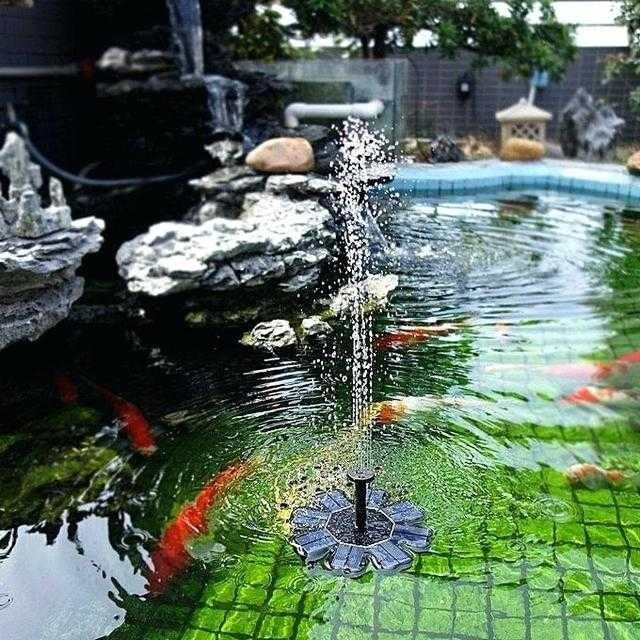Ponds: (1, 134, 640, 639)
